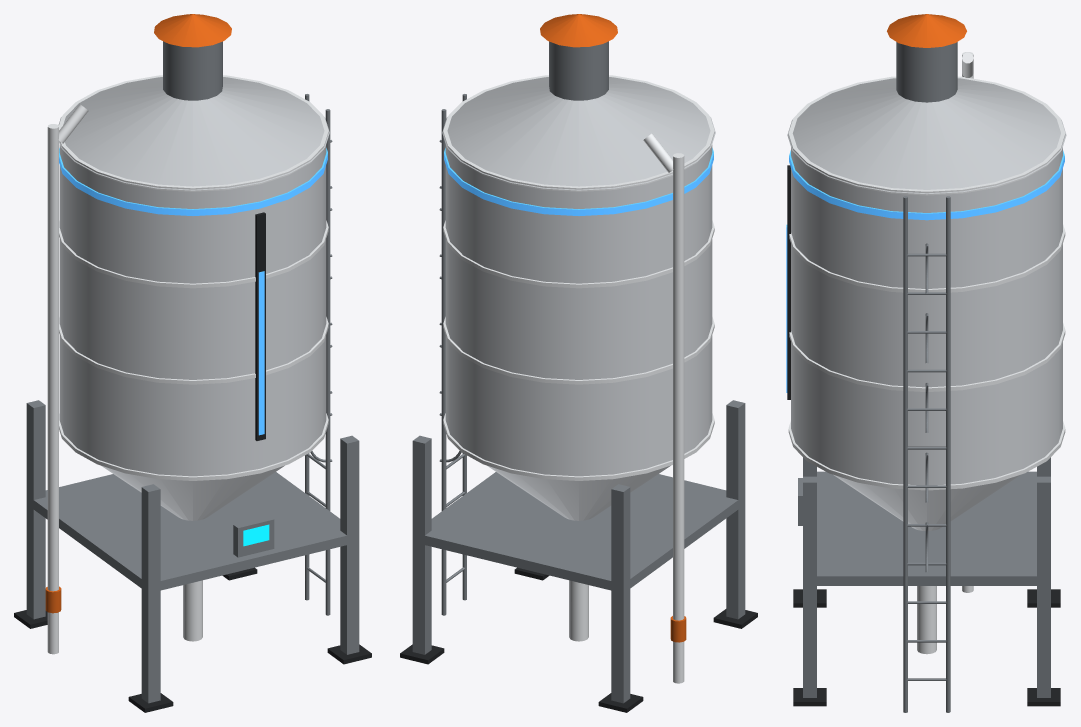
The model's file is silo-25t.glb.
3 views of the same model, side by side, from view 1: azimuth 30°, elevation 25°; view 2: azimuth 150°, elevation 25°; view 3: azimuth 270°, elevation 25° (orthographic). The views are drawn at different scales.
Visible parts, largest first — view 1: SimReady_Flour_Silo_25t, anim_pulse; view 2: SimReady_Flour_Silo_25t; view 3: SimReady_Flour_Silo_25t.
Part boxes in pixels (bbox=[...]): SimReady_Flour_Silo_25t: bbox=[14, 14, 371, 712]; anim_pulse: bbox=[258, 271, 264, 435]; SimReady_Flour_Silo_25t: bbox=[400, 14, 757, 712]; SimReady_Flour_Silo_25t: bbox=[787, 14, 1066, 712].
Size of the model in its own units: 2.64 by 5.93 by 2.37.
